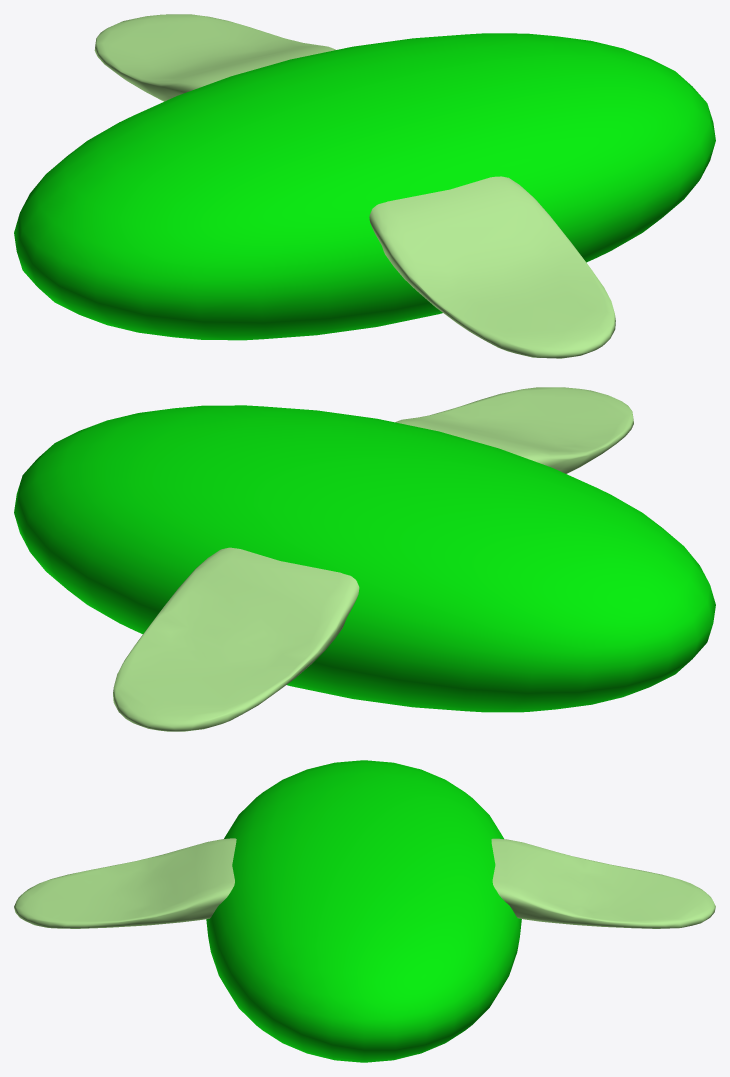
Rendered from spaceship.gltf.
3 renders of one model, top to bottom at view 1: azimuth 30°, elevation 25°; view 2: azimuth 150°, elevation 25°; view 3: azimuth 270°, elevation 25°, orthographic. The views are drawn at different scales.
Parts seen in each view (by area): view 1: Cube.001; view 2: Cube.001; view 3: Cube.001.
Boxes of the visible parts, <box> form: Cube.001: <box>14,14,715,358</box>; Cube.001: <box>14,387,715,731</box>; Cube.001: <box>14,760,715,1062</box>.
Size of the model in its own units: 15.97 by 4.6 by 18.8.
